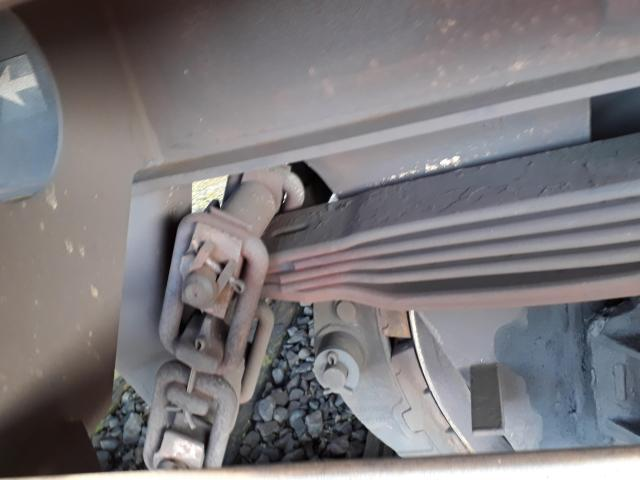blattfederww: (272, 207, 640, 299)
